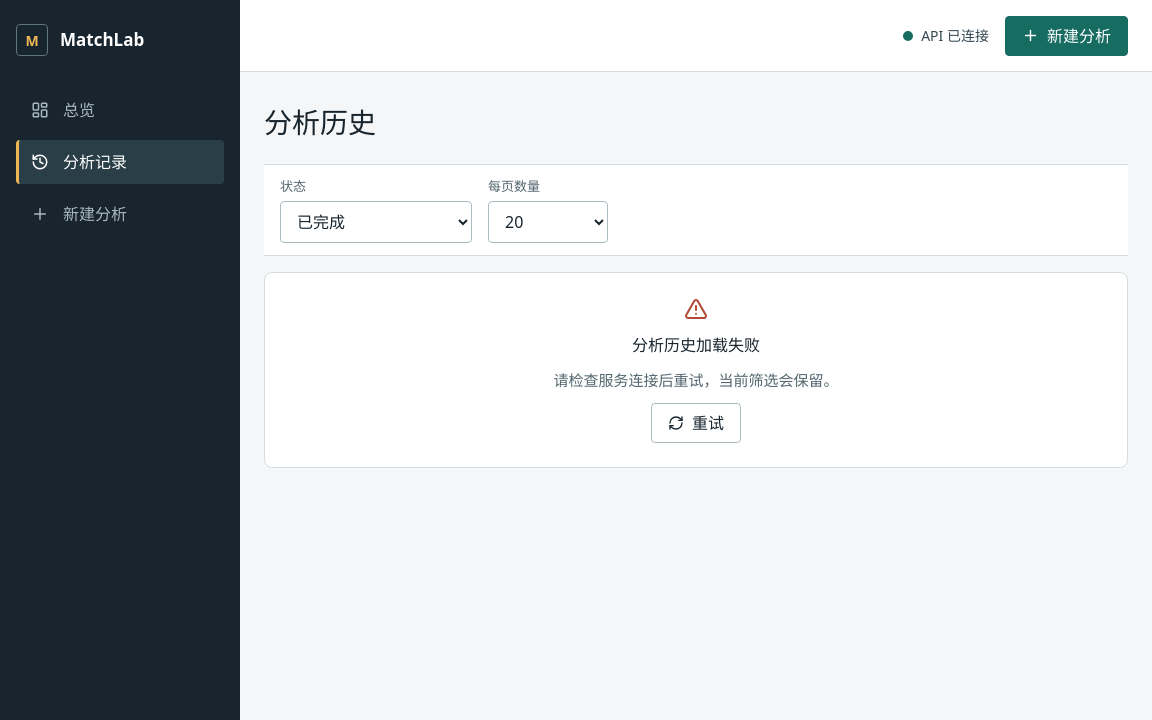
Test: exhausts the production retry once, then manually succeeds without changing the URL
Expected: the message "分析历史加载失败 请检查服务连接后重试，当前筛选会保留。 重试" is shown, x1=264 y1=272 x2=1128 y2=468
Click the button "重试".
click(696, 423)  # box x1=651 y1=403 x2=741 y2=443
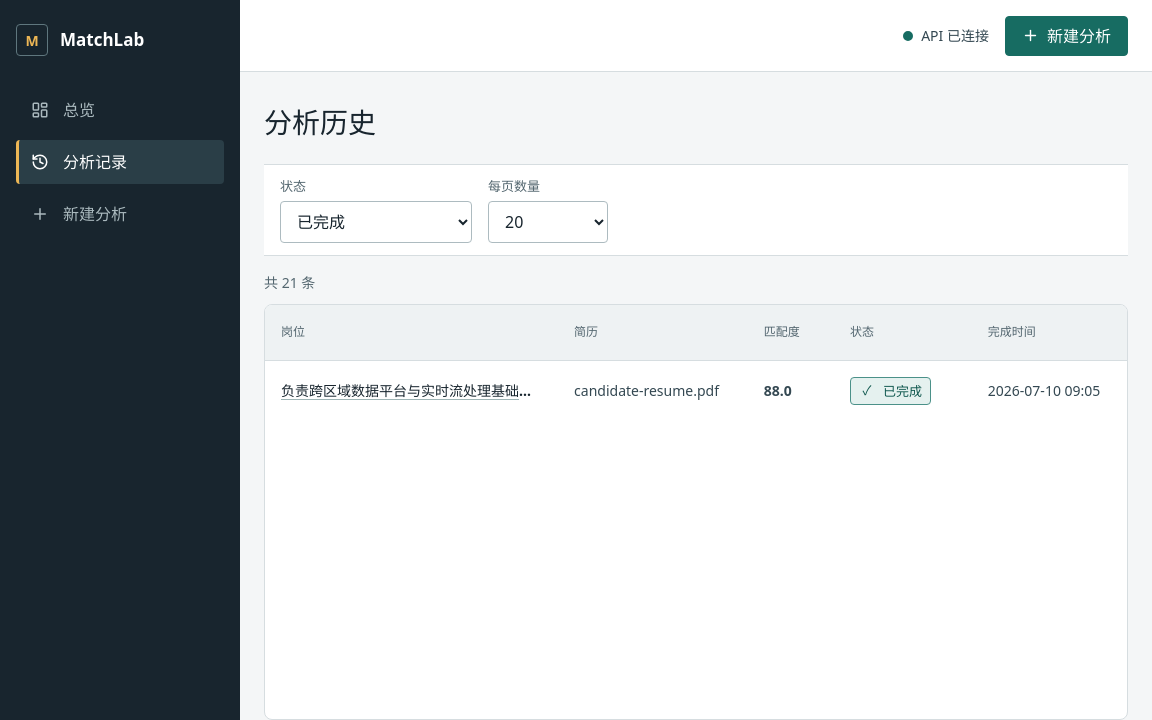
Result: the link "负责跨区域数据平台与实时流处理基础设施建设的高级后端工程师（核心交易与稳定性方向）" is shown at x1=281 y1=380 x2=542 y2=401
